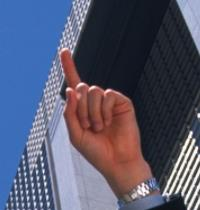up: (55, 45, 142, 169)
